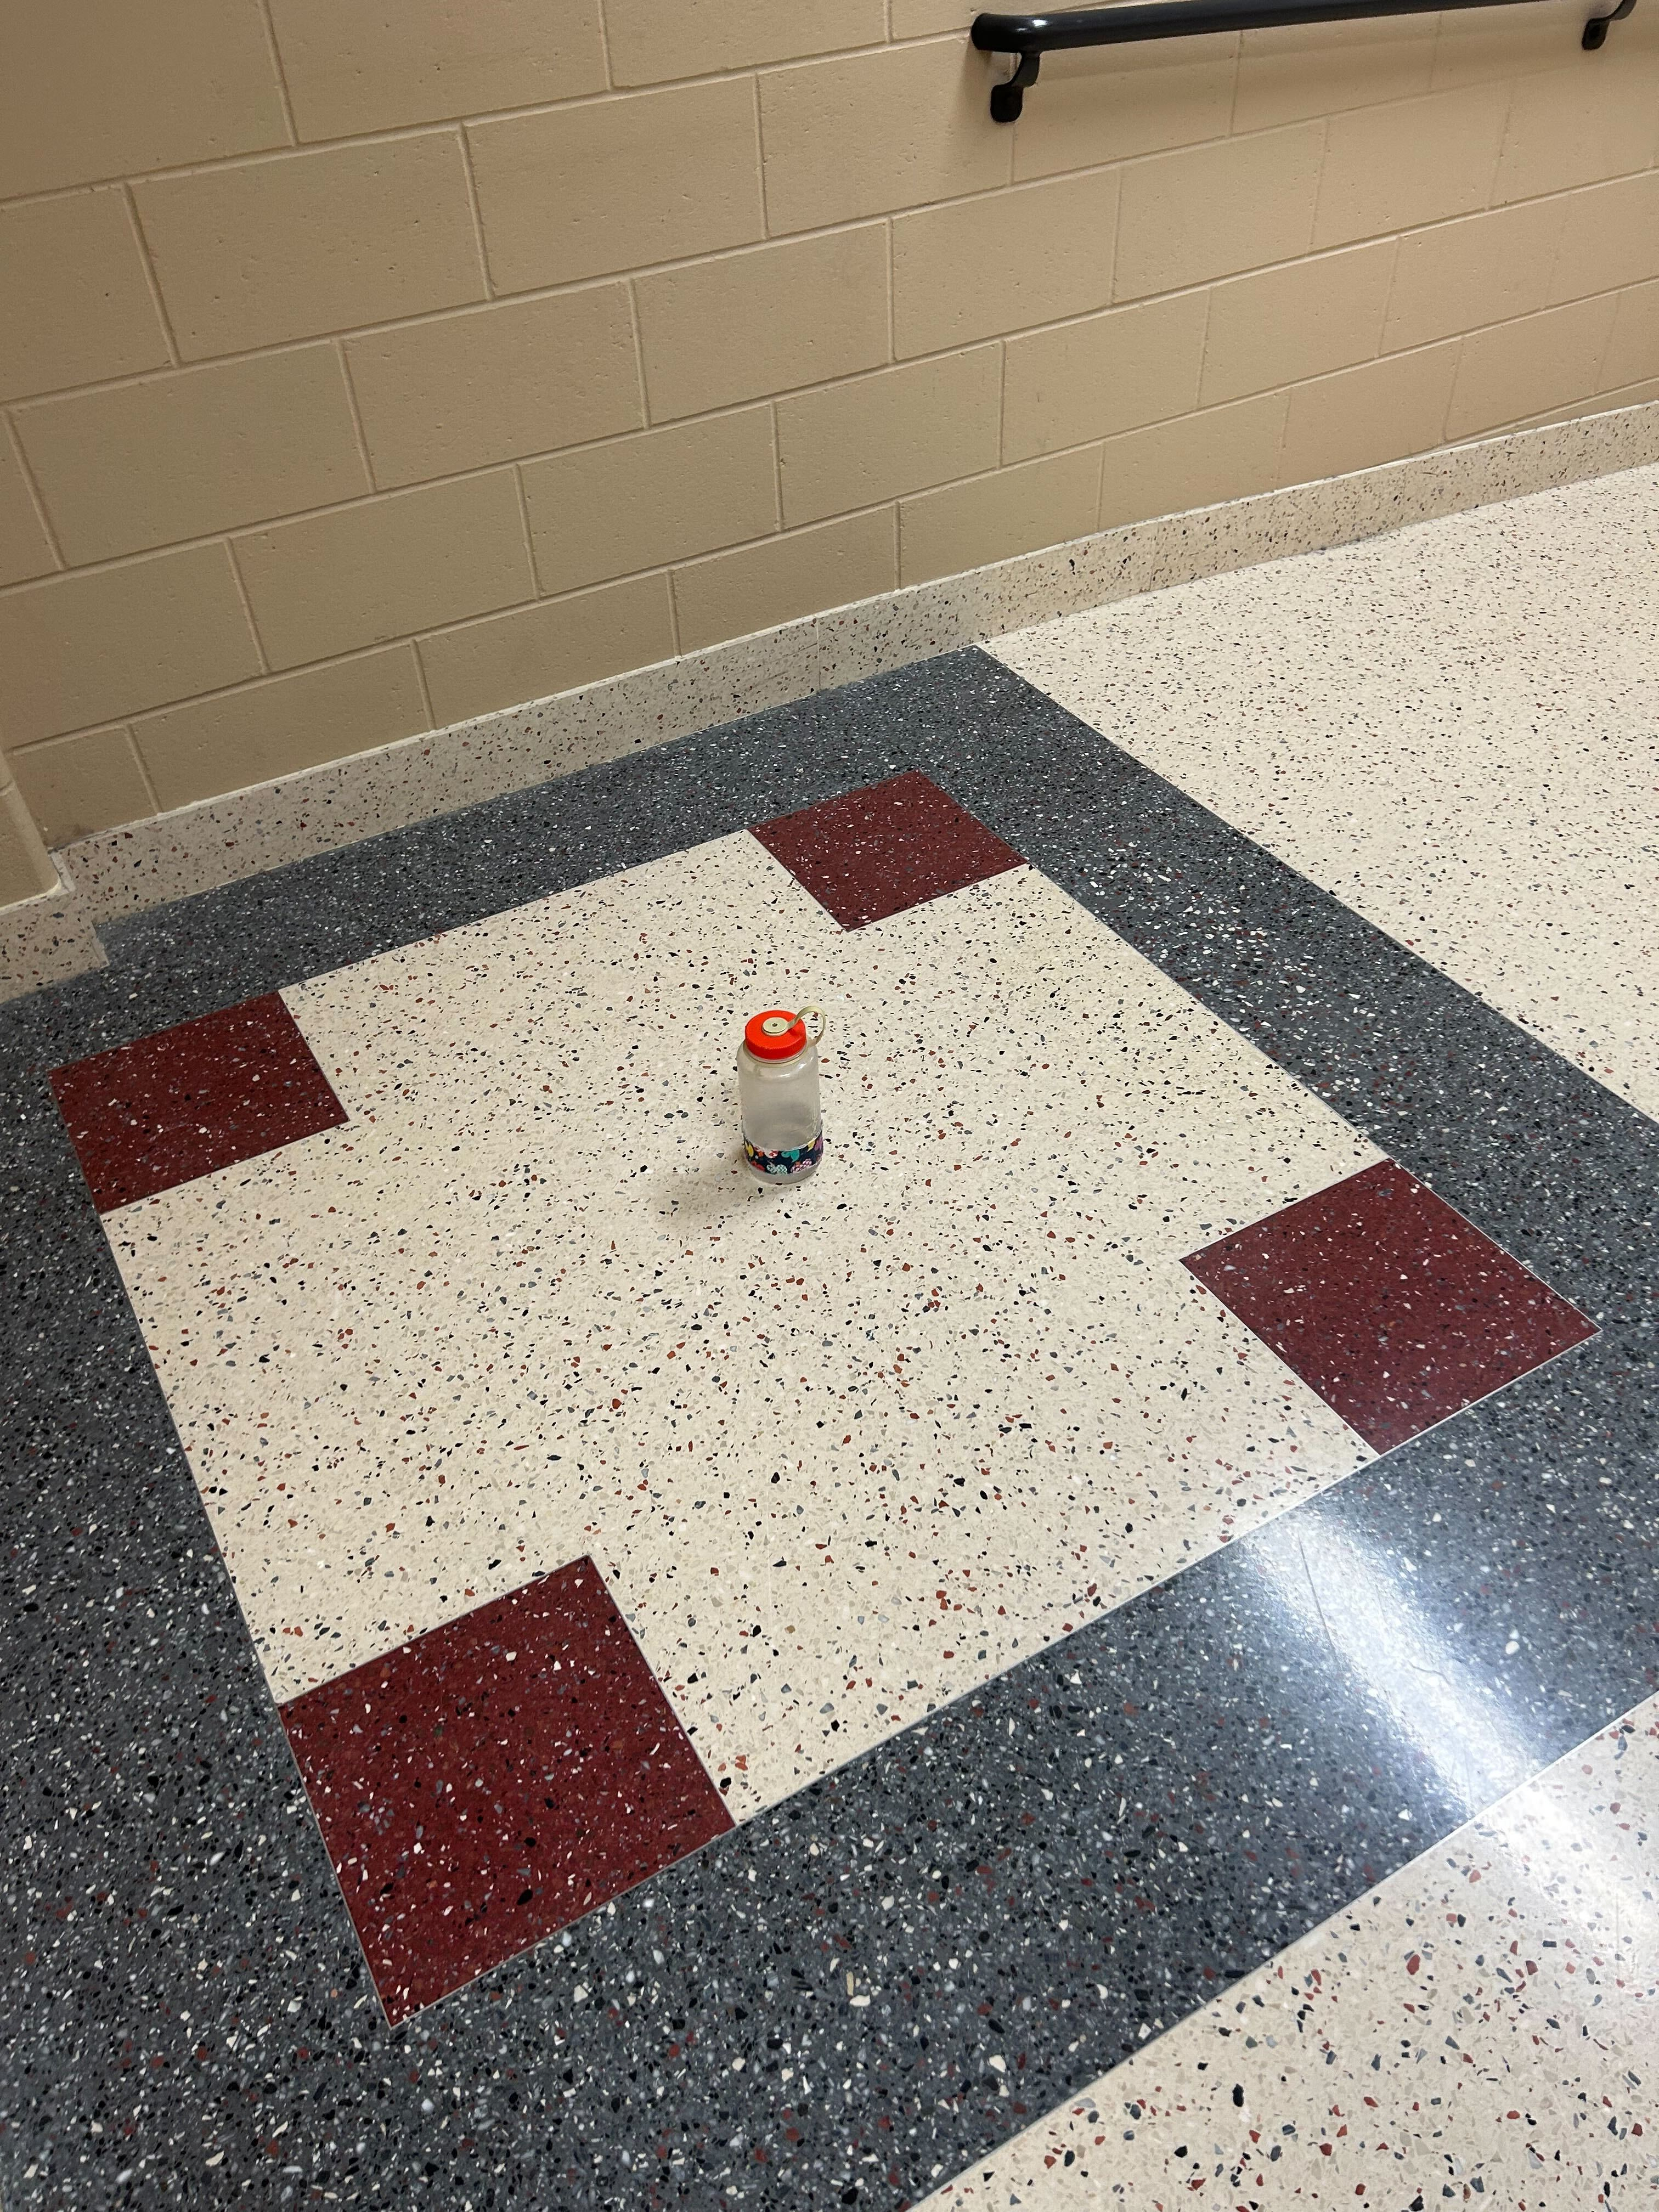bottle: (732, 991, 828, 1190)
